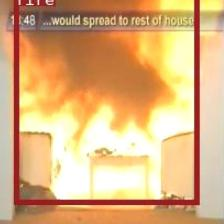fire: (13, 0, 197, 203)
